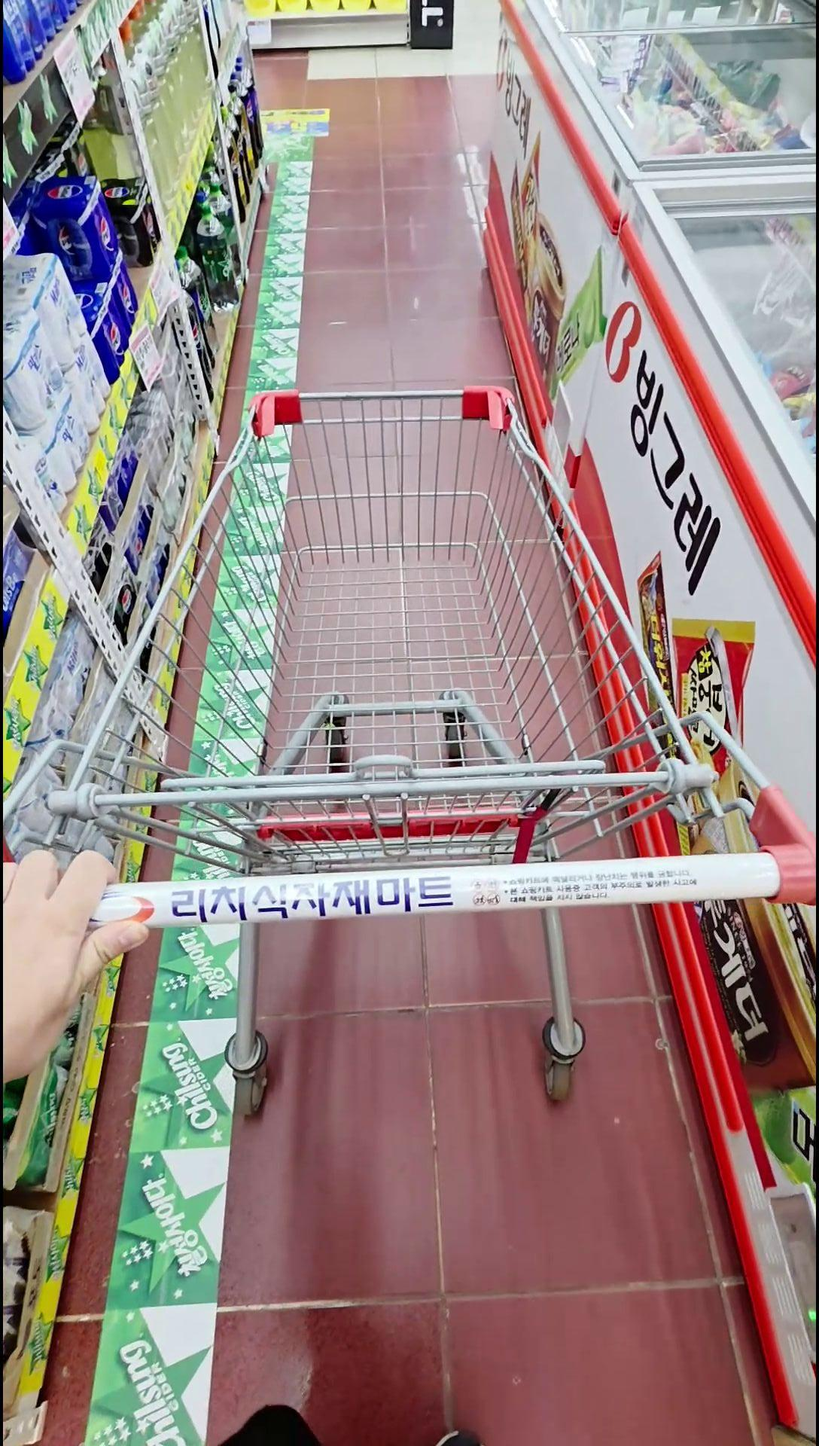empty_cart: (0, 387, 818, 1106)
